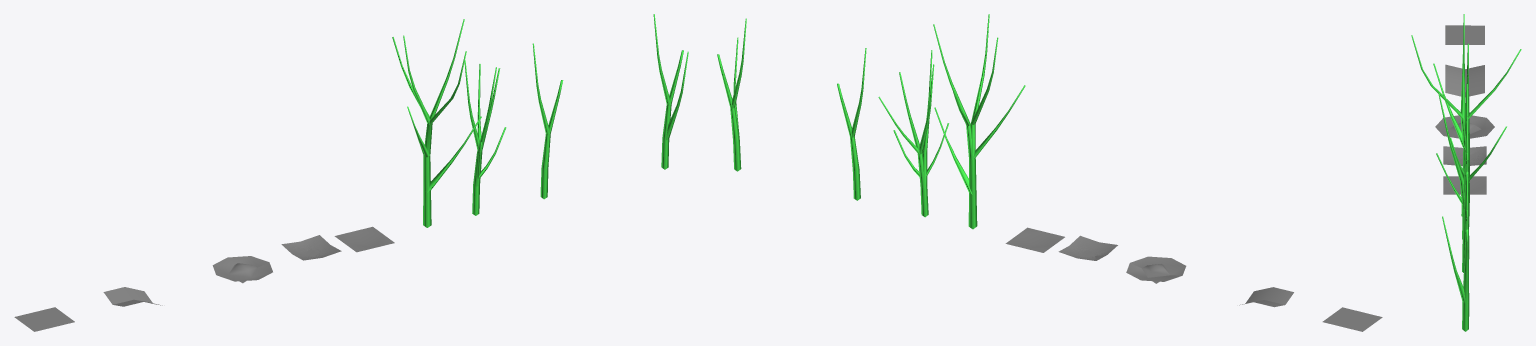
File: Plants.FBX
3 views of the same model, side by side, from view 1: azimuth 30°, elevation 25°; view 2: azimuth 150°, elevation 25°; view 3: azimuth 270°, elevation 25° (orthographic). The views are drawn at different scales.
Parts seen in each view (by area): view 1: Flower_Stalk_B, Flower_Stalk_A, Flower_B, Flower_Stalk_D, Flower_Stalk_C, Flower_Low_A, Flower_A, Flower_Low_Leaf_A, Flower_Leaf_A; view 2: Flower_Stalk_B, Flower_Stalk_A, Flower_B, Flower_Stalk_D, Flower_Stalk_C, Flower_Low_A, Flower_A, Flower_Low_Leaf_A, Flower_Leaf_A; view 3: Flower_Stalk_B, Flower_Stalk_A, Flower_Leaf_A, Flower_Stalk_D, Flower_B, Flower_Low_Leaf_A, Flower_A, Flower_Low_A, Flower_Stalk_C.
Boxes of the visible parts, bbox=[...] form: Flower_Stalk_B: bbox=[392, 19, 481, 227]; Flower_Stalk_A: bbox=[464, 60, 506, 215]; Flower_B: bbox=[212, 256, 272, 283]; Flower_Stalk_D: bbox=[653, 14, 688, 169]; Flower_Stalk_C: bbox=[532, 43, 563, 199]; Flower_Low_A: bbox=[334, 226, 394, 252]; Flower_A: bbox=[281, 235, 341, 260]; Flower_Low_Leaf_A: bbox=[14, 307, 74, 331]; Flower_Leaf_A: bbox=[103, 287, 162, 306]; Flower_Stalk_B: bbox=[933, 14, 1025, 229]; Flower_Stalk_A: bbox=[878, 50, 948, 217]; Flower_B: bbox=[1126, 256, 1186, 283]; Flower_Stalk_D: bbox=[717, 18, 746, 171]; Flower_Stalk_C: bbox=[837, 48, 866, 200]; Flower_Low_A: bbox=[1005, 227, 1064, 252]; Flower_A: bbox=[1058, 235, 1117, 260]; Flower_Low_Leaf_A: bbox=[1322, 307, 1382, 331]; Flower_Leaf_A: bbox=[1239, 287, 1293, 307]; Flower_Stalk_B: bbox=[1411, 14, 1521, 216]; Flower_Stalk_A: bbox=[1436, 84, 1506, 239]; Flower_Leaf_A: bbox=[1445, 64, 1484, 96]; Flower_Stalk_D: bbox=[1442, 174, 1469, 331]; Flower_B: bbox=[1435, 115, 1494, 138]; Flower_Low_Leaf_A: bbox=[1445, 25, 1484, 44]; Flower_A: bbox=[1443, 146, 1486, 165]; Flower_Low_A: bbox=[1443, 176, 1486, 194]; Flower_Stalk_C: bbox=[1462, 116, 1469, 272].
Bounding box in the file's own units: 4283 × 1294 × 637.
